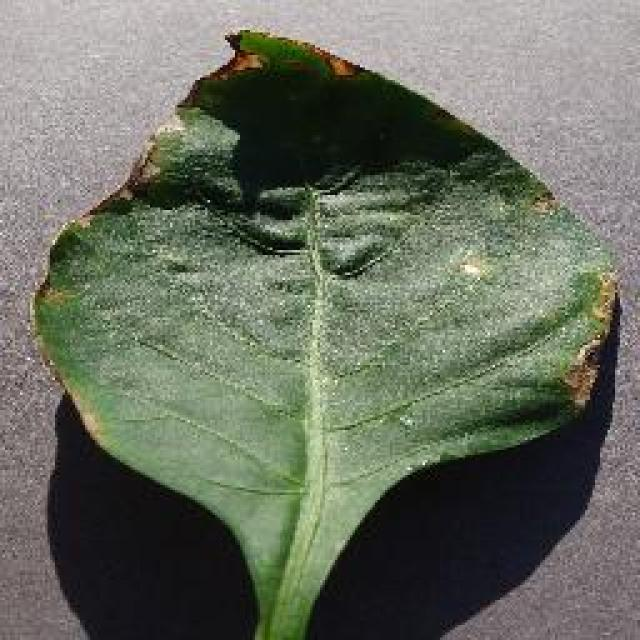Chilli_Bacterial_Spot: (28, 25, 622, 637), (558, 267, 620, 415), (218, 25, 362, 85), (217, 45, 265, 80), (453, 253, 495, 285), (320, 50, 360, 80), (525, 188, 560, 218)
